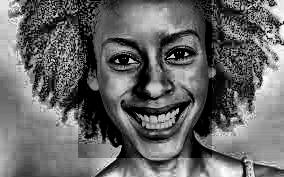Happy: (78, 0, 212, 158)
